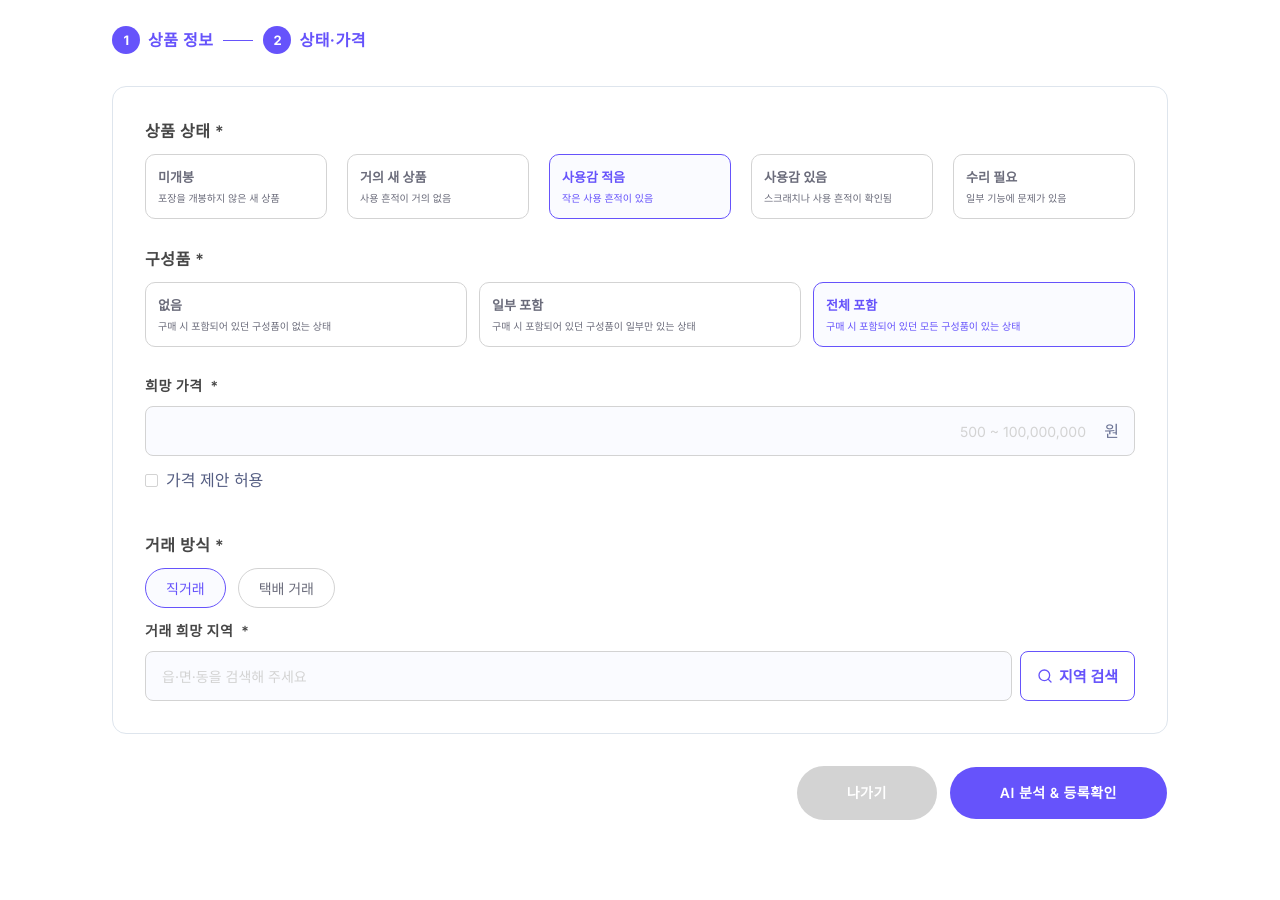
Test: DirectRegisterPage › validates price and a delivery-cost option before final confirmation
(page scrolled)
Click the button "AI 분석 & 등록확인" at (1058, 793), box [949, 766, 1168, 820]
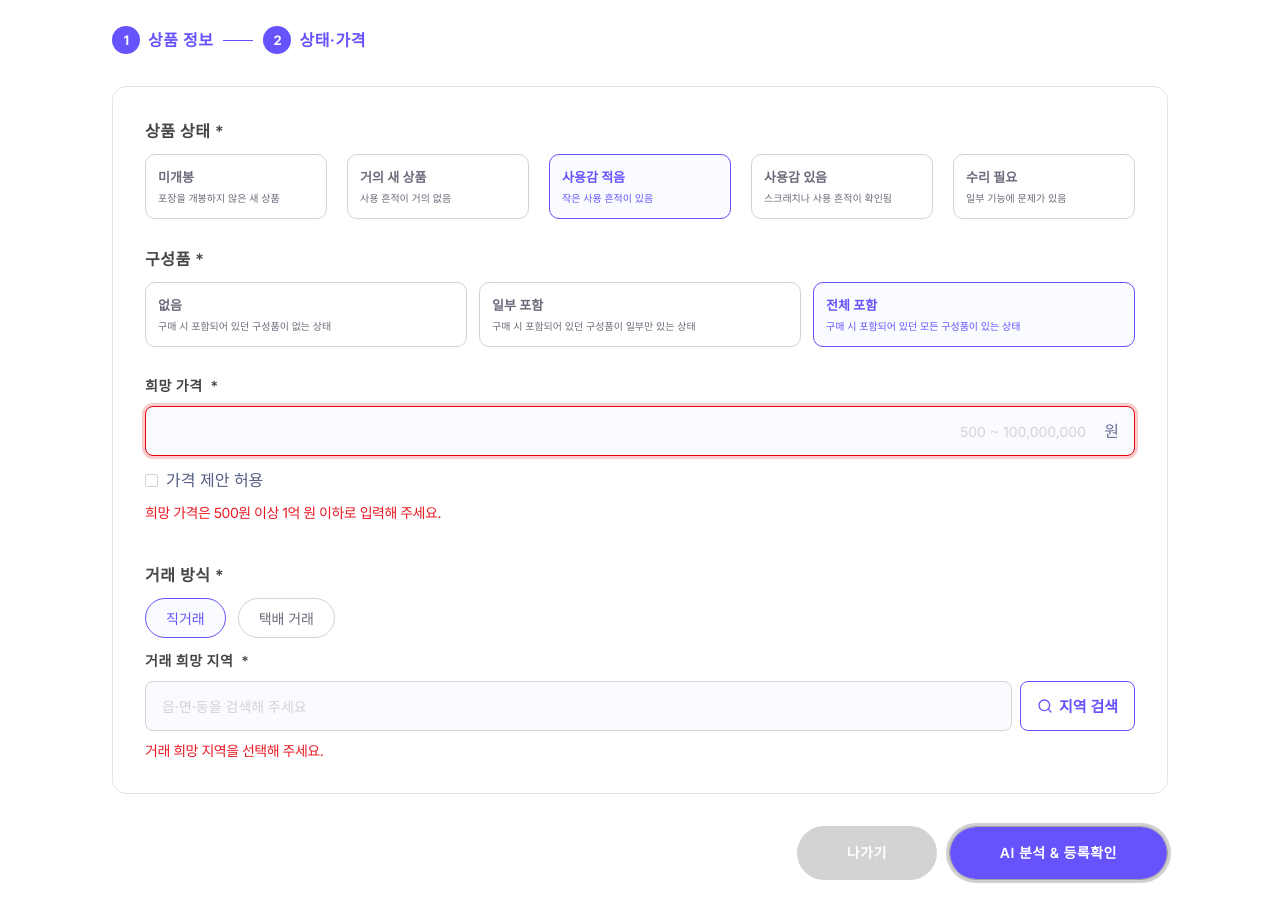
Check: the text "희망 가격은 500원 이상 1억 원 이하로 입력해 주세요." is shown, box [145, 503, 441, 523]
Type "800000" into the field labelled "희망 가격" at (640, 431), box [145, 406, 1135, 456]
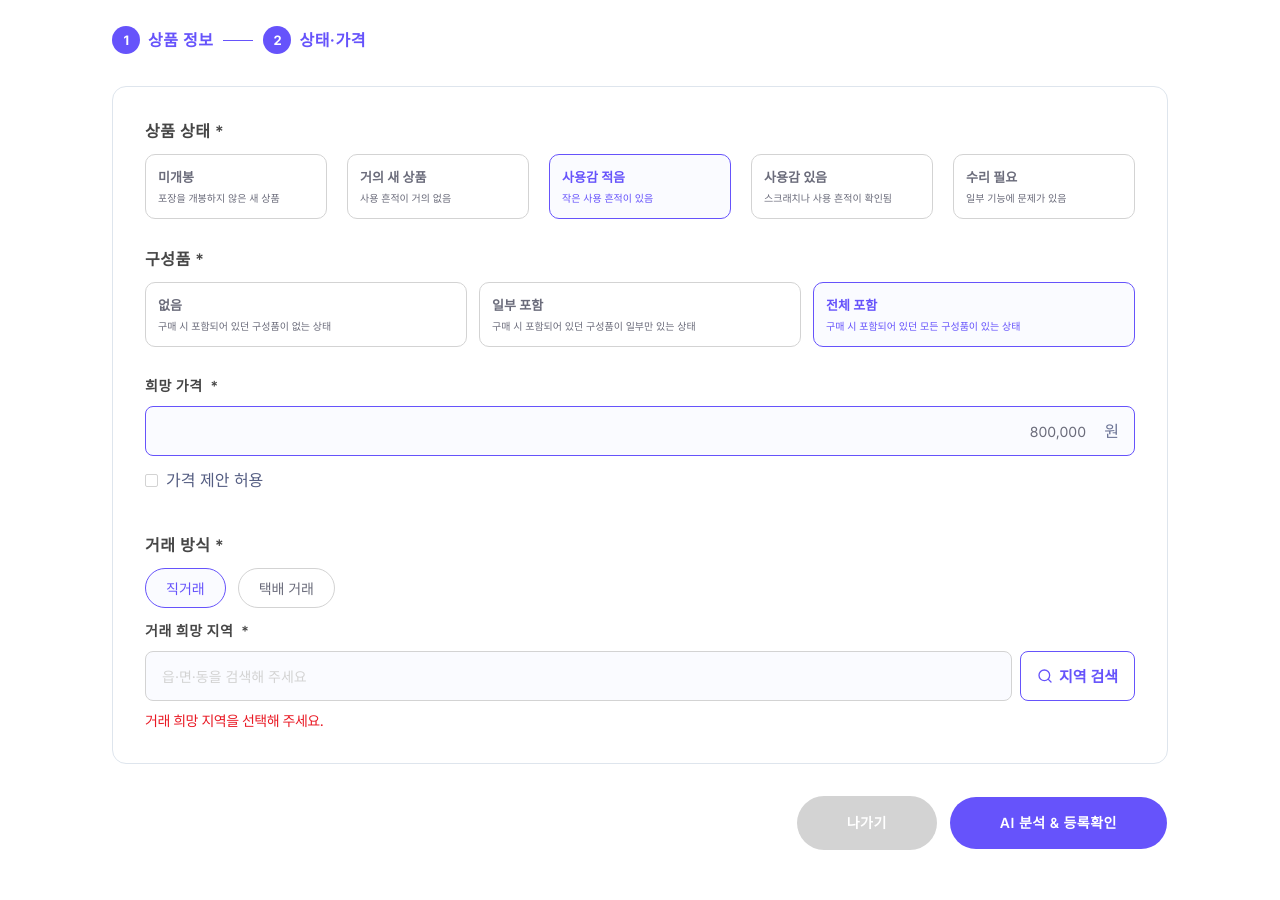
Click the radio button labelled "택배 거래" at (286, 588), box [238, 568, 335, 608]
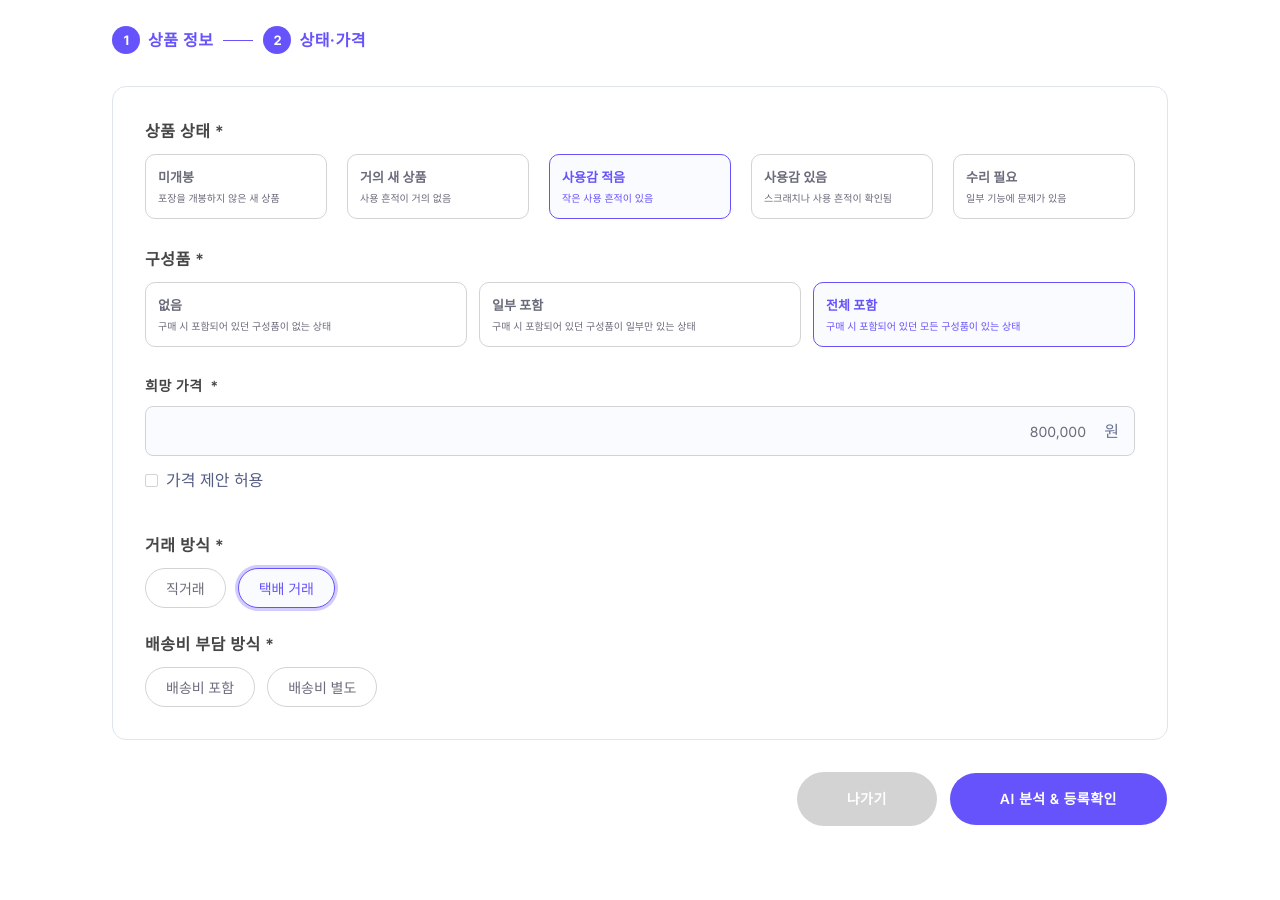
Click the button "AI 분석 & 등록확인" at (1058, 799), box [949, 772, 1168, 826]
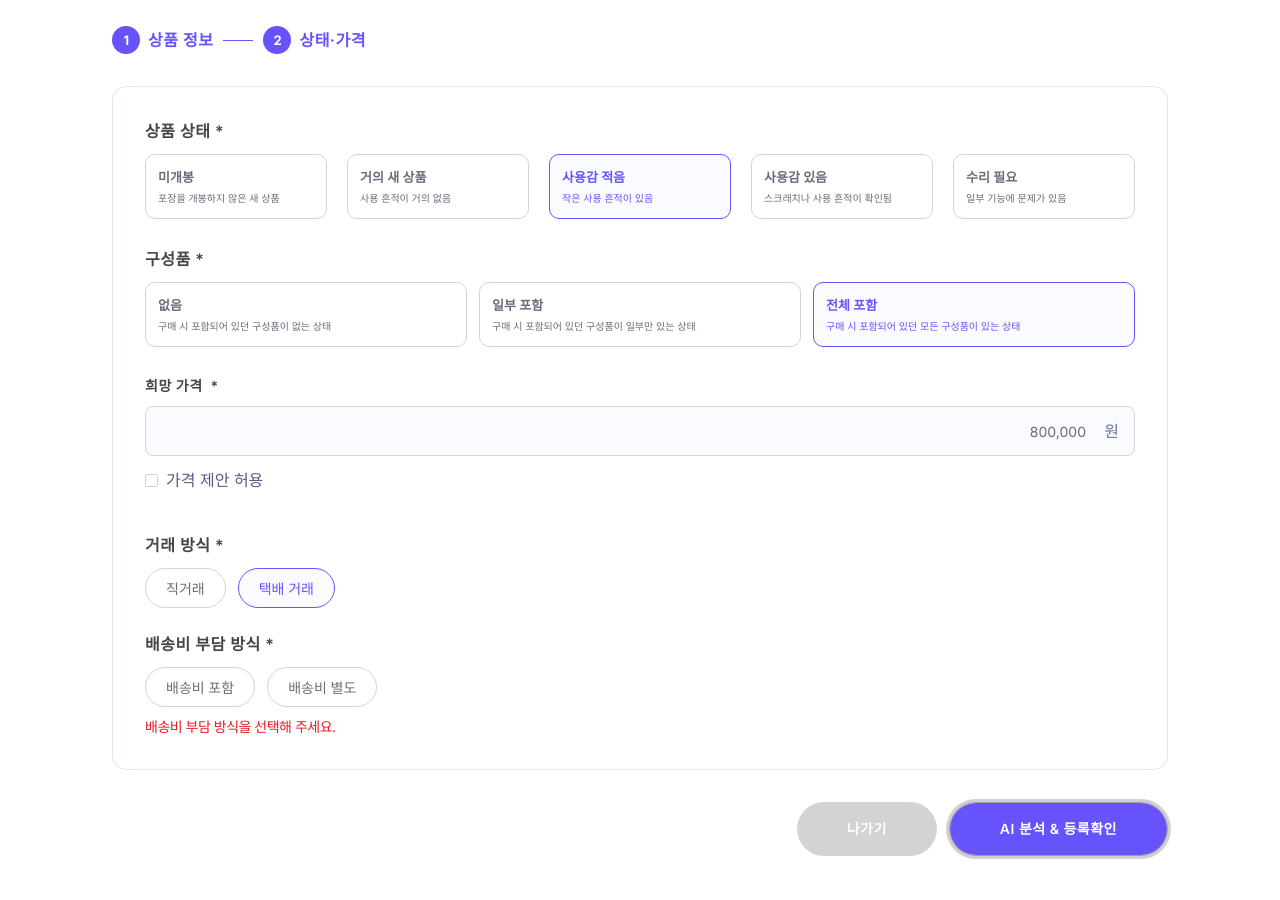
Check: the label labelled "거래 희망 지역" is not shown
Check: the text "배송비 부담 방식을 선택해 주세요." is shown, box [145, 717, 336, 737]
